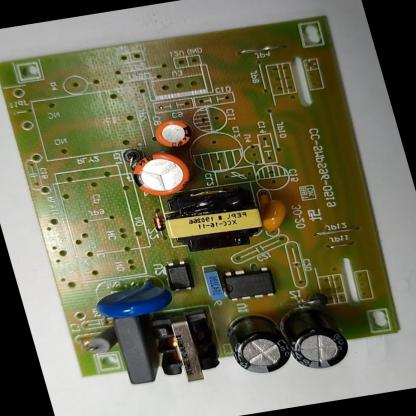Cap1: (126, 147, 193, 200)
Cap2: (150, 114, 198, 152)
Cap3: (222, 312, 296, 378)
Cap4: (277, 299, 354, 373)
MOSFET: (218, 262, 278, 304)
Mov: (87, 272, 174, 321)
Resistor: (80, 323, 121, 357)
Transformer: (155, 180, 270, 256), (147, 310, 224, 388)
